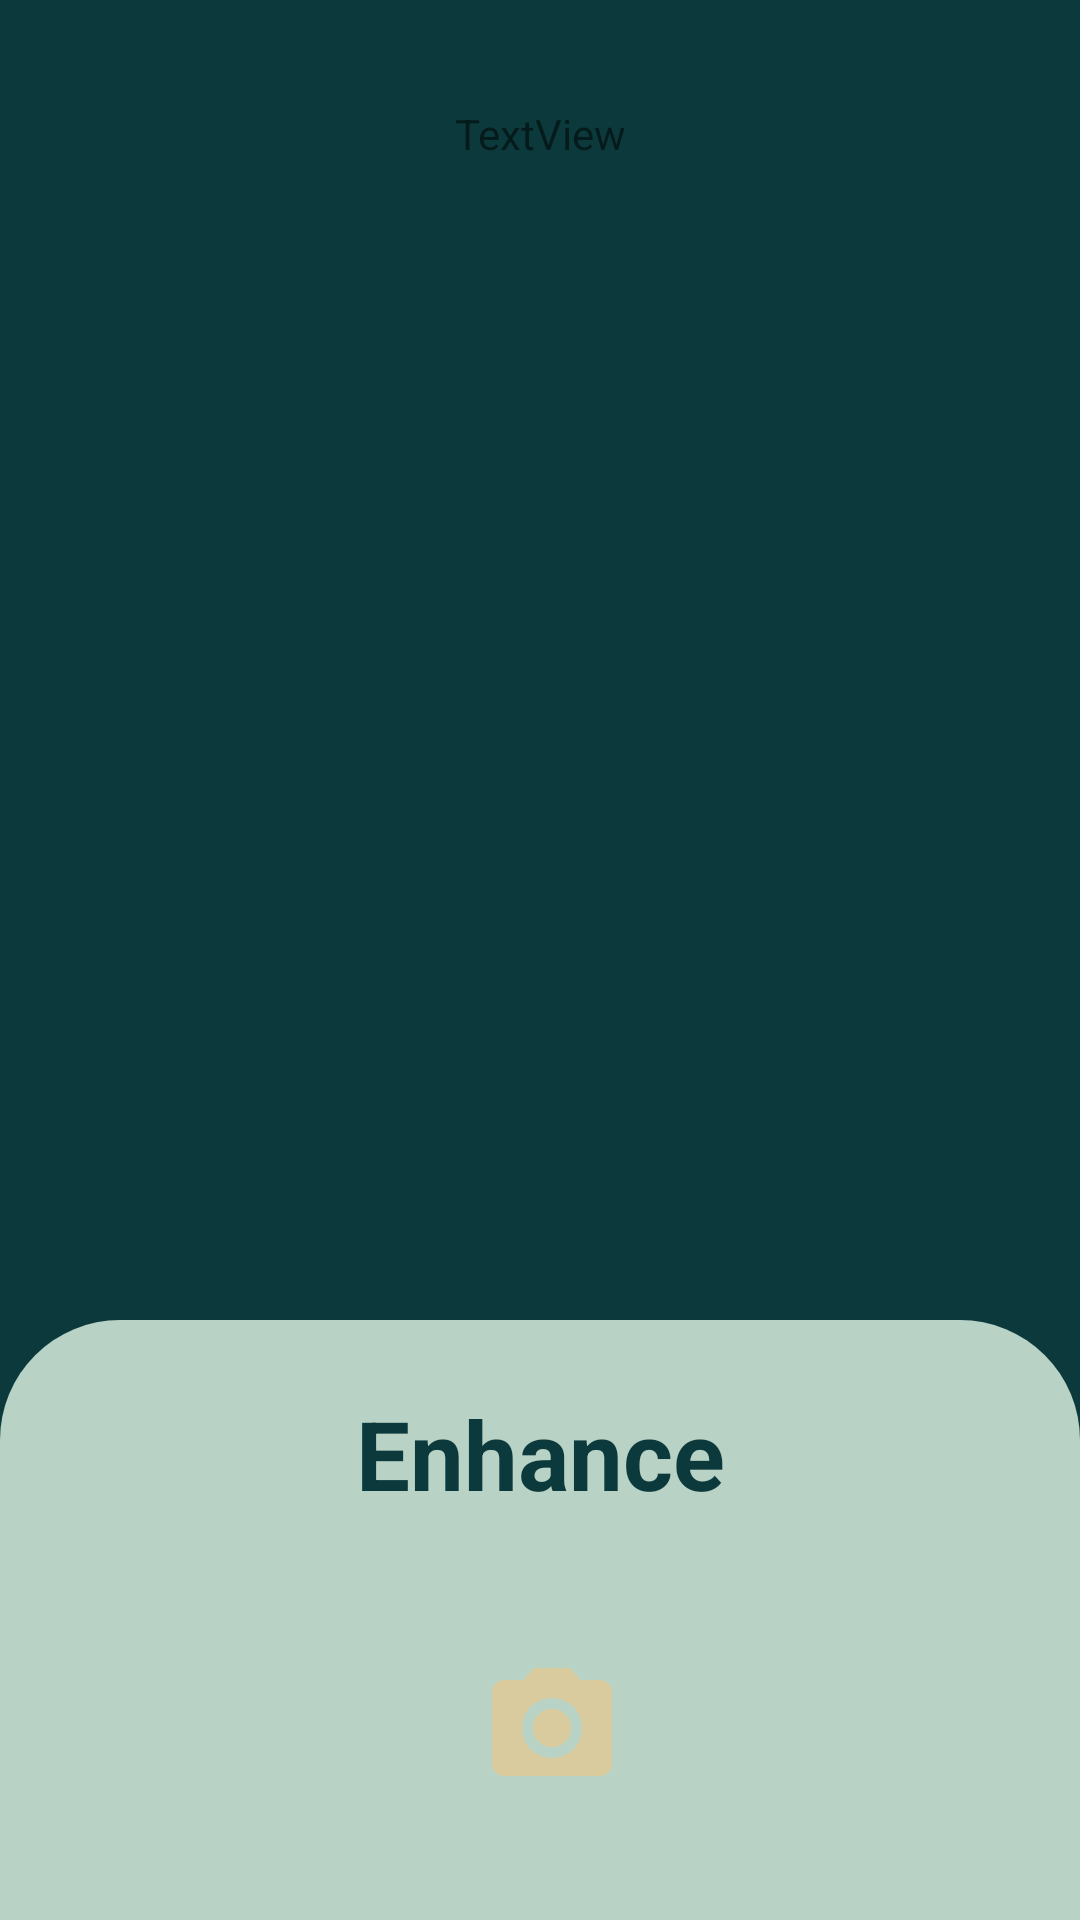

Icons on this 1080px x 1920px Android screen, each with the point to tap as [x,y]:
camera button: [552,1722]
